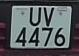4: (14, 25, 29, 47), (28, 26, 41, 49)
6: (54, 27, 67, 48)
7: (40, 26, 55, 48)
U: (27, 6, 43, 29)
V: (41, 7, 56, 28)
